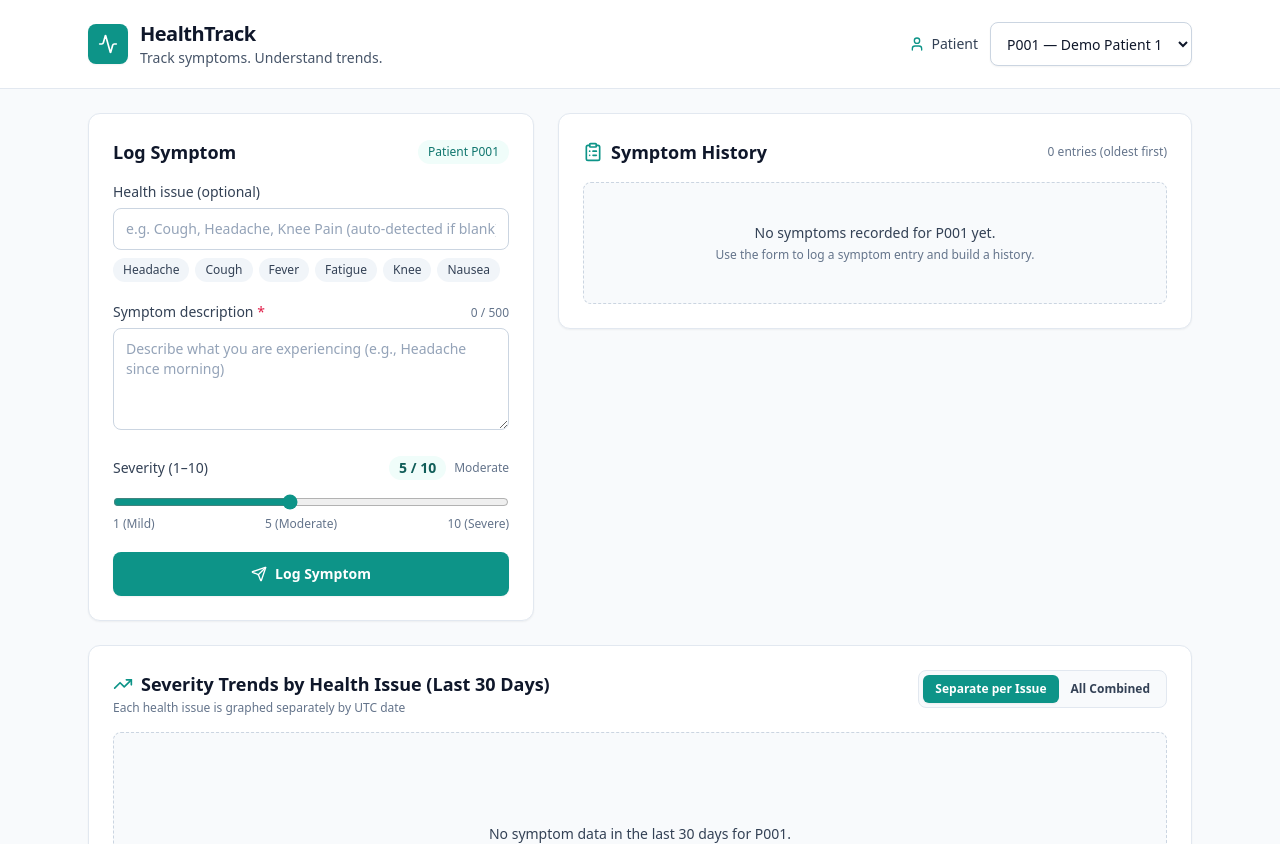
Test: HealthTrack App › allows logging a symptom under an optional health issue tag
Expected: the text "No symptoms recorded for P001 yet." is shown, [755,223,995,242]
Click the button "Knee" at (407, 270), box [383,258,431,282]
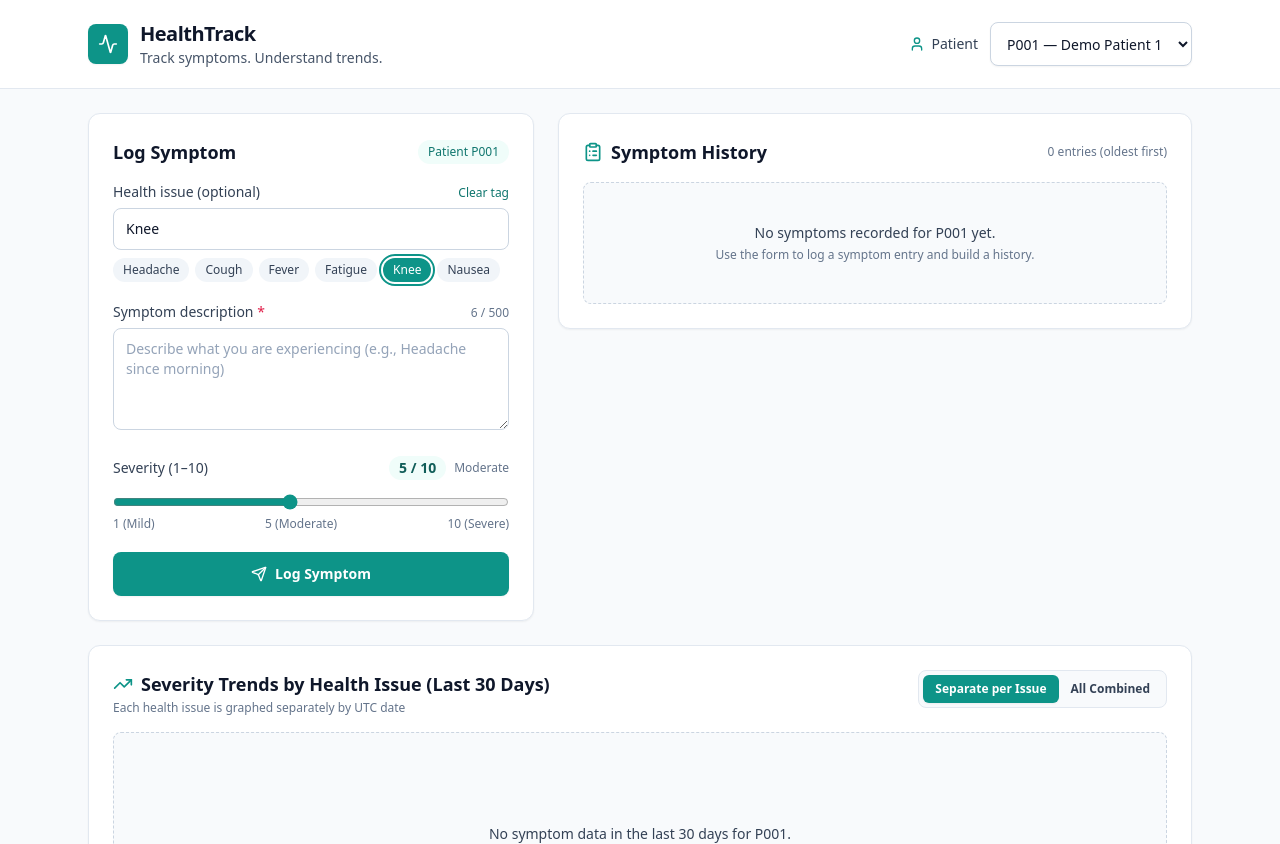
Type "Sharp ache on stairs" into the text box labelled "Symptom description *" at (311, 379), box [113,328,509,430]
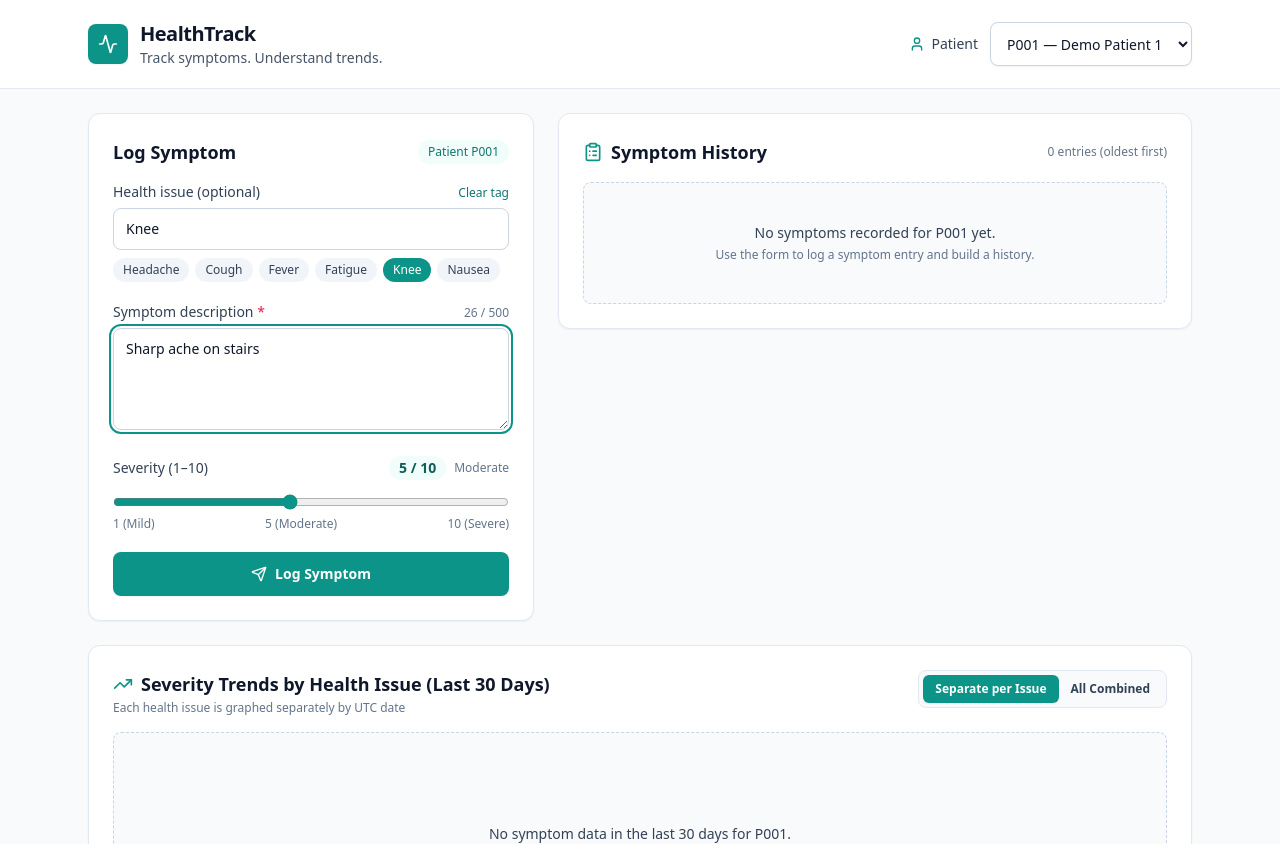
Click the button "Log Symptom" at (311, 574), box [113,552,509,596]
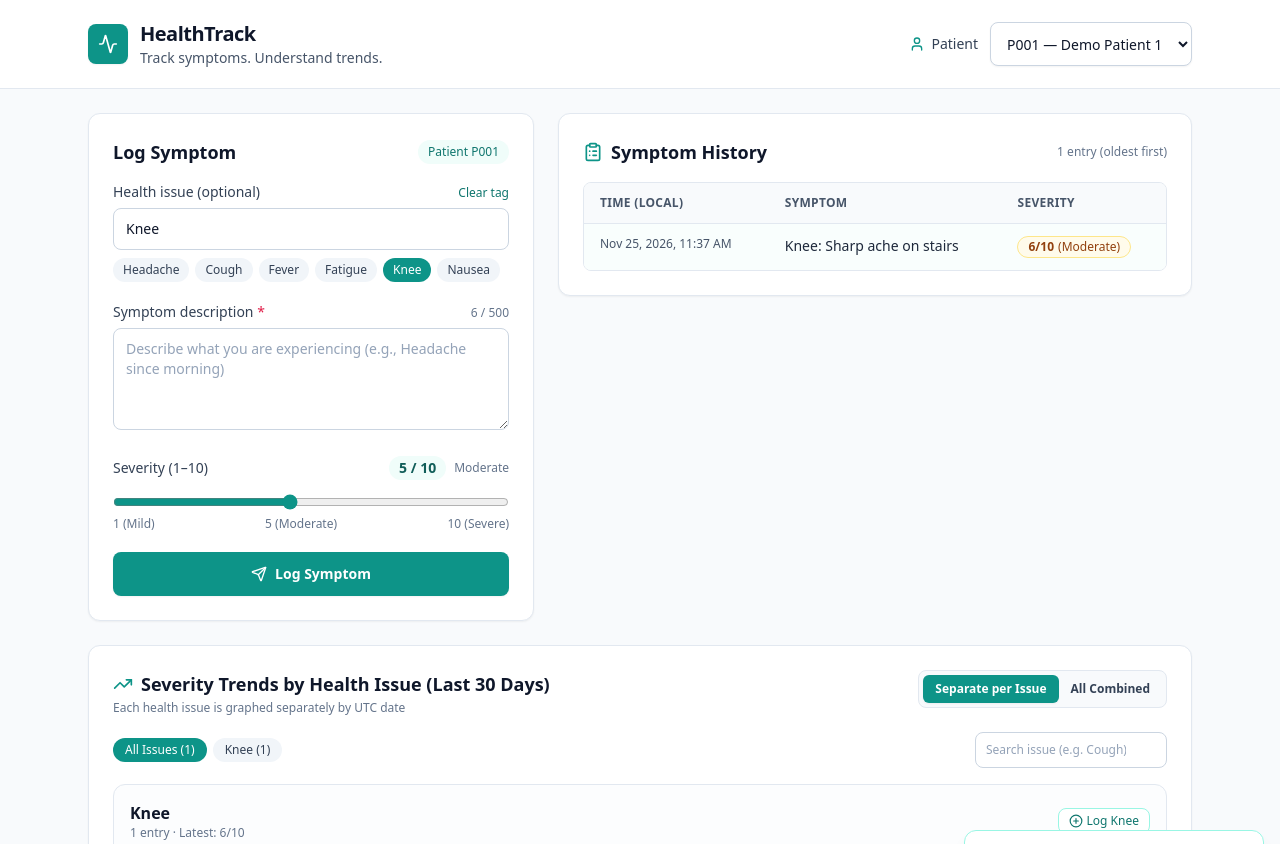
Now the text "Knee: Sharp ache on stairs" is shown, box [769,224,1002,270]
Now the heading "Knee" is shown, box [130,802,170,824]
